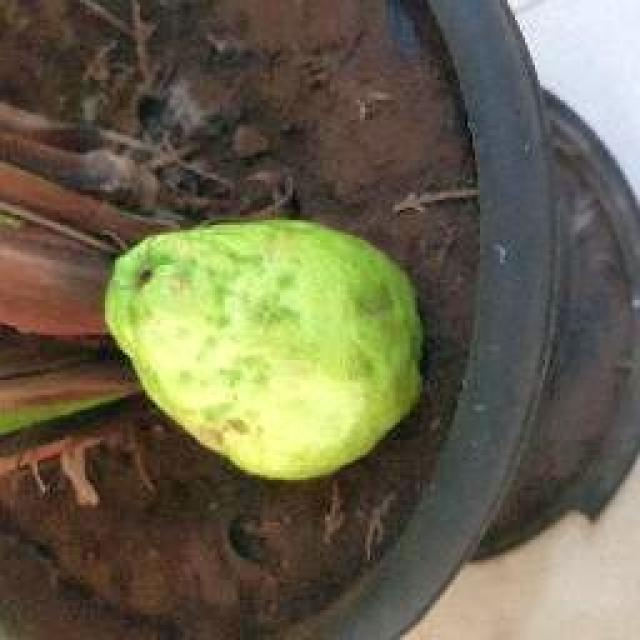Good_Guava: (102, 220, 422, 482)
